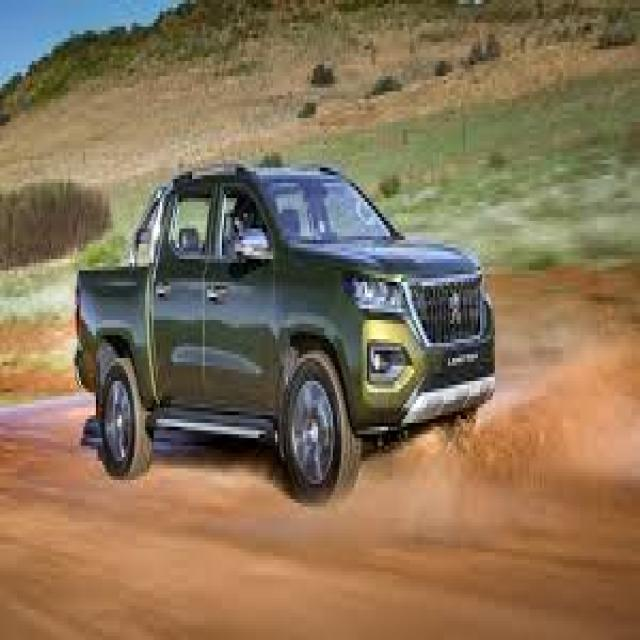Pickup Trucks: (73, 164, 497, 514)
